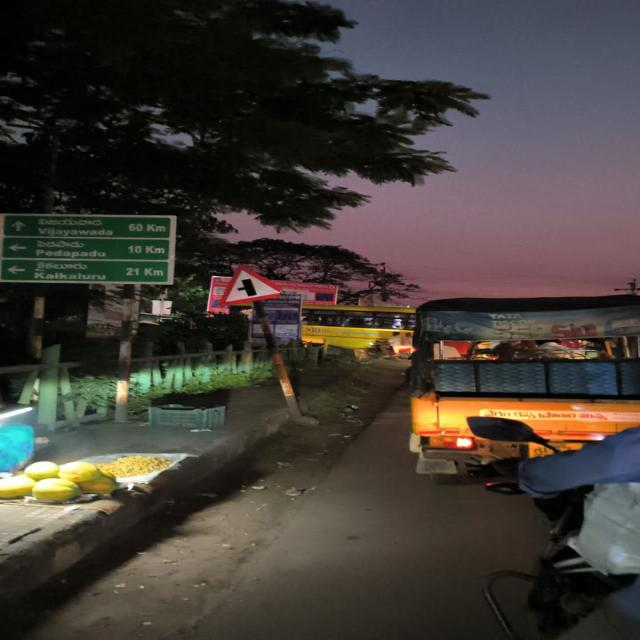Sideroad_toleft: (222, 262, 281, 305)
